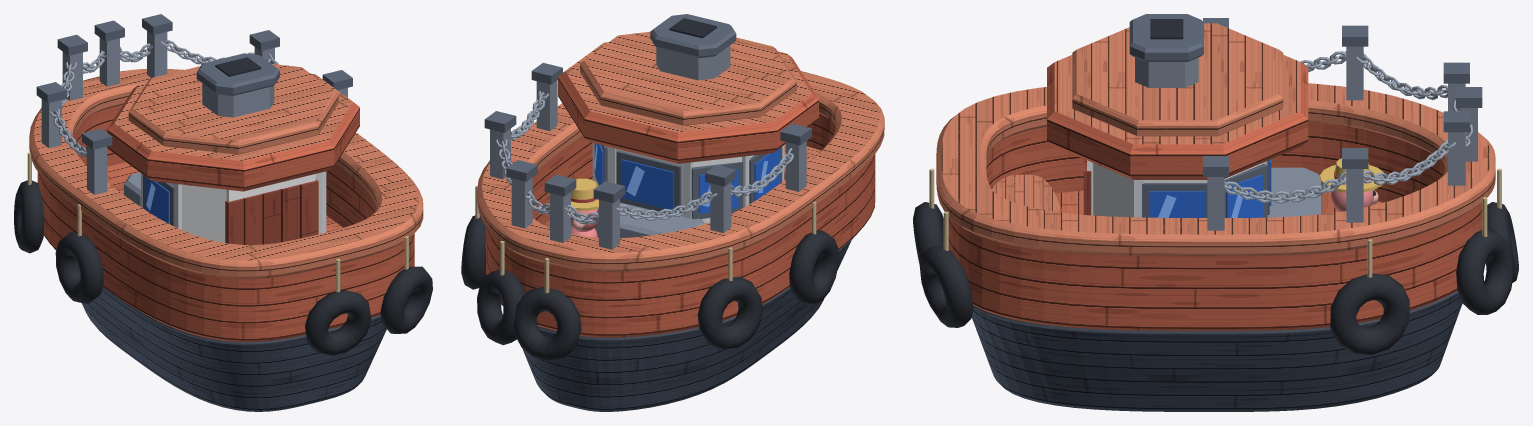
The model's file is tugboat.glb.
The picture shows the model from 3 angles, left to right: view 1: azimuth 30°, elevation 25°; view 2: azimuth 150°, elevation 25°; view 3: azimuth 270°, elevation 25°; orthographic projection. The views are drawn at different scales.
Visible parts, largest first — view 1: part_171, part_169, part_172, part_173, part_156, part_155, part_134, part_157, part_112, part_154, part_110, part_114 (+22 smaller); view 2: part_171, part_169, part_172, part_173, part_156, part_155, part_116, part_108, part_157, part_154, part_110, part_106 (+30 smaller); view 3: part_171, part_169, part_173, part_172, part_156, part_155, part_104, part_154, part_157, part_106, part_114, part_149 (+24 smaller).
Boxes of the visible parts, left/top/right/bottom form: part_171: left=37, top=105, right=414, bottom=341; part_169: left=82, top=288, right=386, bottom=411; part_172: left=34, top=69, right=418, bottom=260; part_173: left=29, top=83, right=423, bottom=278; part_156: left=133, top=63, right=334, bottom=140; part_155: left=107, top=85, right=359, bottom=191; part_134: left=225, top=179, right=318, bottom=244; part_157: left=128, top=78, right=338, bottom=154; part_112: left=304, top=289, right=371, bottom=355; part_154: left=114, top=73, right=352, bottom=161; part_110: left=55, top=232, right=103, bottom=304; part_114: left=380, top=266, right=432, bottom=333; part_171: left=485, top=113, right=875, bottom=337; part_169: left=522, top=240, right=851, bottom=411; part_172: left=482, top=71, right=879, bottom=252; part_173: left=477, top=93, right=884, bottom=271; part_156: left=584, top=32, right=792, bottom=111; part_155: left=558, top=54, right=818, bottom=163; part_116: left=513, top=286, right=581, bottom=361; part_108: left=697, top=276, right=762, bottom=349; part_157: left=580, top=47, right=796, bottom=125; part_154: left=565, top=42, right=811, bottom=132; part_110: left=789, top=230, right=838, bottom=305; part_106: left=477, top=269, right=525, bottom=345; part_171: left=948, top=121, right=1482, bottom=330; part_169: left=971, top=293, right=1462, bottom=411; part_173: left=936, top=100, right=1495, bottom=256; part_172: left=941, top=83, right=1490, bottom=234; part_156: left=1076, top=23, right=1278, bottom=120; part_155: left=1047, top=62, right=1308, bottom=179; part_104: left=1330, top=273, right=1409, bottom=355; part_154: left=1054, top=55, right=1300, bottom=144; part_157: left=1072, top=50, right=1283, bottom=136; part_106: left=1456, top=229, right=1513, bottom=314; part_114: left=919, top=246, right=973, bottom=327; part_149: left=1093, top=163, right=1262, bottom=217.
Size of the model in its own units: 3.59 by 3.37 by 5.54.
39 materials, 5 textured.
